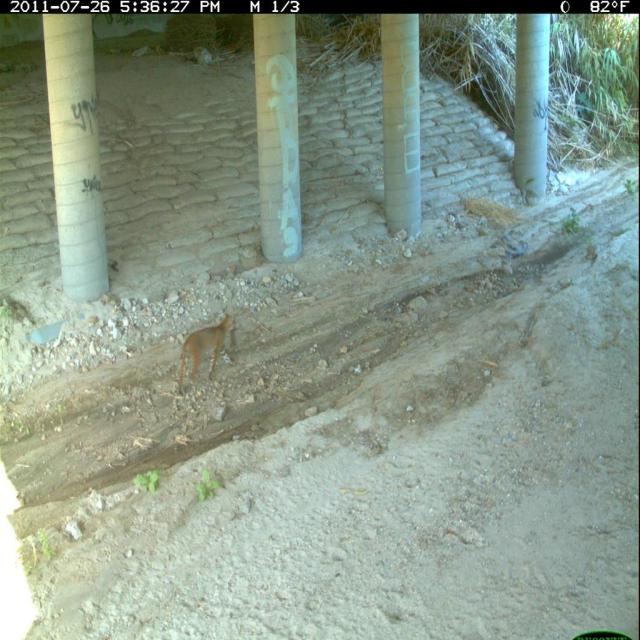bobcat: (174, 305, 243, 400)
rabbit: (225, 323, 243, 365)
